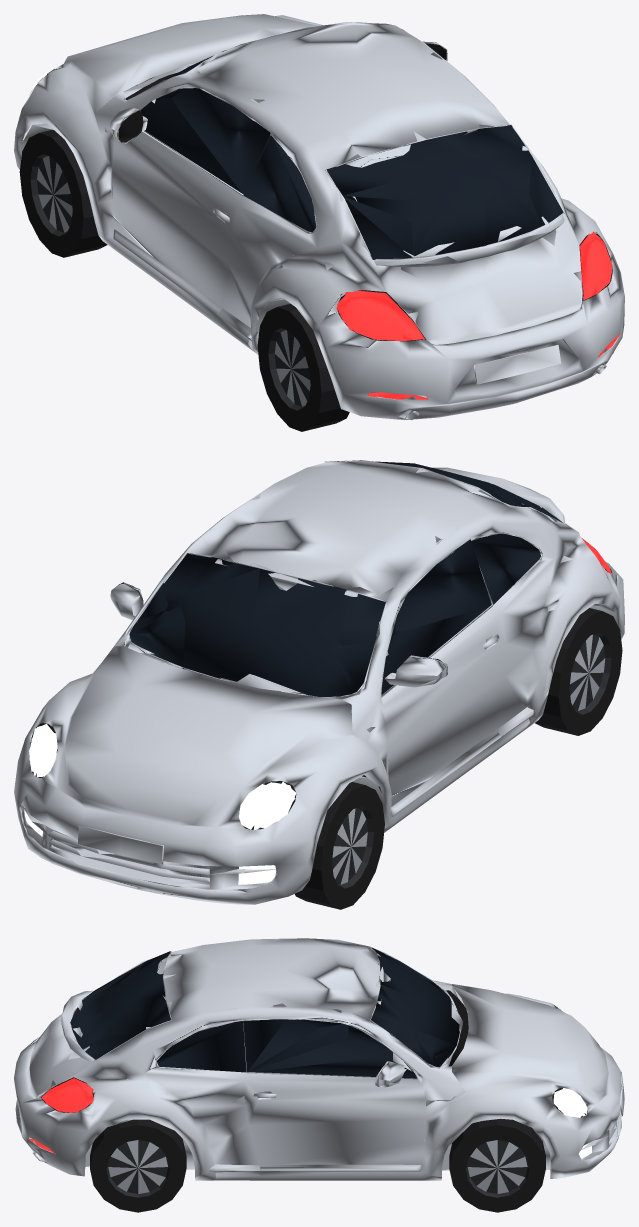
File: car_lp_hatch.glb
3 renders of one model, top to bottom at view 1: azimuth 30°, elevation 25°; view 2: azimuth 150°, elevation 25°; view 3: azimuth 270°, elevation 25°, orthographic. The views are drawn at different scales.
Visible parts, largest first — view 1: body, wheel_r, wheel_f; view 2: body, wheel_r, wheel_f; view 3: body, wheel_f, wheel_r.
Boxes of the visible parts, x1,y1,x2,y2 form: body: (14, 14, 624, 420); wheel_r: (257, 303, 349, 431); wheel_f: (19, 129, 107, 257); body: (14, 460, 624, 904); wheel_r: (535, 608, 622, 735); wheel_f: (295, 782, 384, 909); body: (14, 938, 624, 1180); wheel_f: (449, 1118, 545, 1212); wheel_r: (90, 1119, 186, 1212).
Bounding box in the file's own units: 1.96 × 1.45 × 4.15.
Materials: 2 (1 with a texture image).
